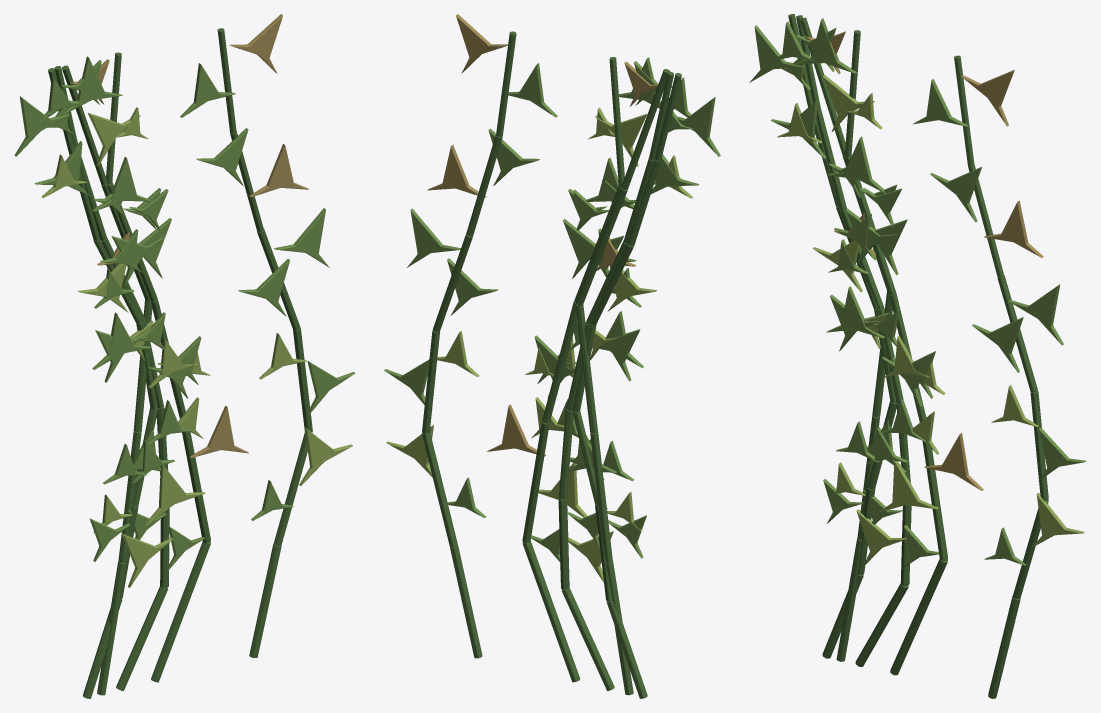
Rendered from runtime.glb.
The picture shows the model from 3 angles, left to right: view 1: azimuth 30°, elevation 25°; view 2: azimuth 150°, elevation 25°; view 3: azimuth 330°, elevation 25°; orthographic projection.
Parts seen in each view (by area): view 1: falkenwacht-wall-ivy-v01_nocol; view 2: falkenwacht-wall-ivy-v01_nocol; view 3: falkenwacht-wall-ivy-v01_nocol.
Boxes of the visible parts, x1,y1,x2,y2 form: falkenwacht-wall-ivy-v01_nocol: [14, 14, 355, 698]; falkenwacht-wall-ivy-v01_nocol: [384, 14, 720, 698]; falkenwacht-wall-ivy-v01_nocol: [749, 14, 1086, 698].
Bounding box in the file's own units: 1.95 × 3.55 × 0.0836.
